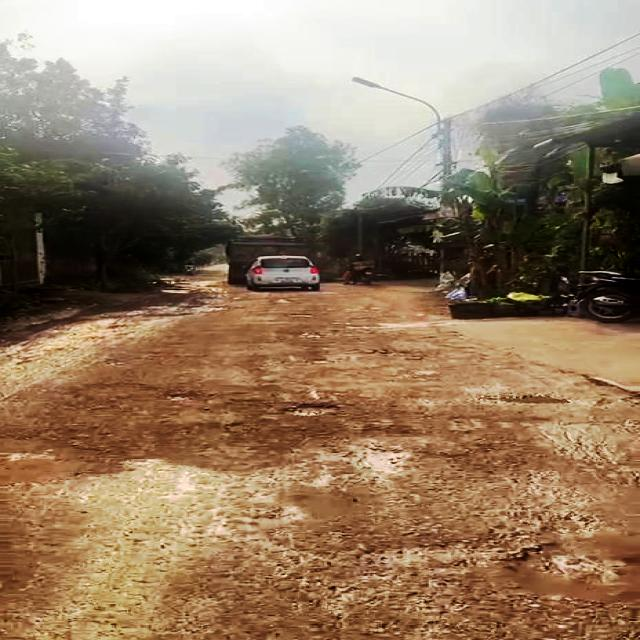pothole: (487, 535, 640, 591), (345, 438, 416, 482), (483, 394, 575, 406), (279, 402, 346, 418)
